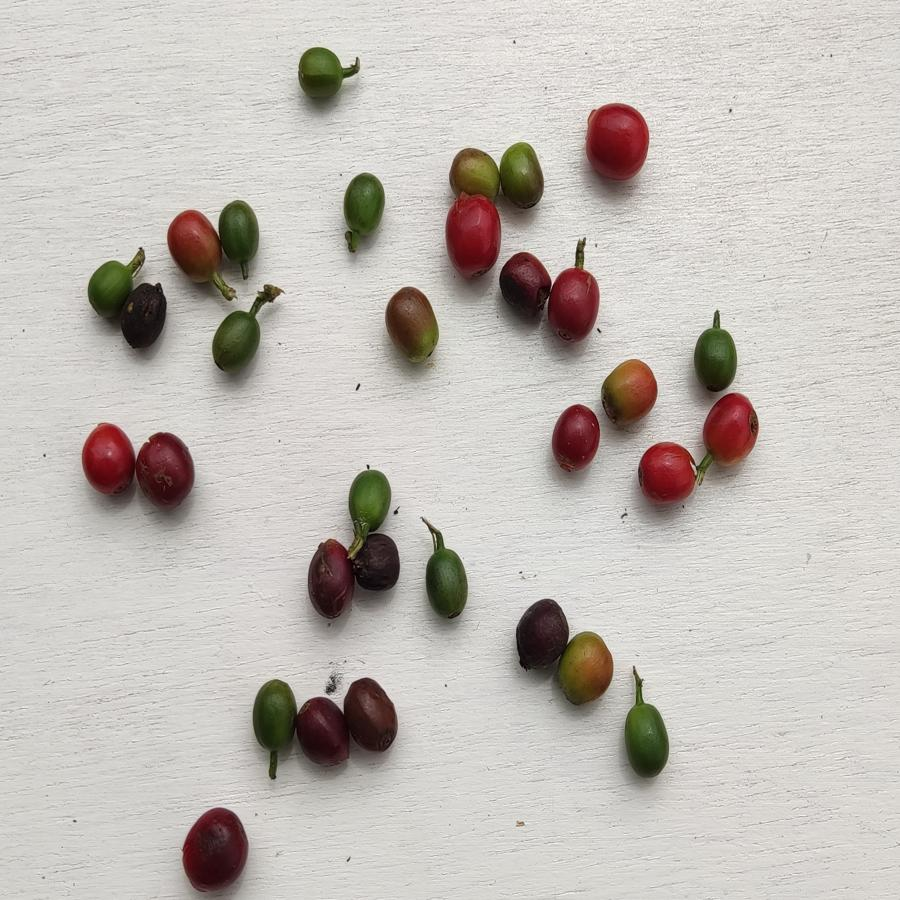Inmaduro: (621, 702, 673, 782), (424, 549, 473, 624), (340, 170, 390, 243), (251, 678, 298, 754), (343, 468, 396, 535), (294, 41, 348, 105), (212, 310, 263, 374), (693, 323, 738, 393), (218, 200, 264, 264), (88, 256, 133, 317)
Maduro: (583, 97, 654, 186), (74, 416, 137, 502), (443, 197, 502, 283), (164, 209, 224, 286), (636, 436, 702, 505), (703, 393, 763, 463), (551, 264, 602, 346), (552, 403, 603, 473)
Pinton: (383, 285, 445, 364), (561, 632, 615, 710), (600, 360, 659, 428), (496, 143, 552, 210), (444, 141, 504, 198)
Sobremaduro: (178, 803, 251, 890), (133, 433, 200, 514), (340, 676, 403, 751), (512, 593, 570, 672), (295, 696, 352, 771), (306, 538, 355, 623), (499, 252, 551, 318), (351, 533, 405, 589), (121, 287, 169, 350)
